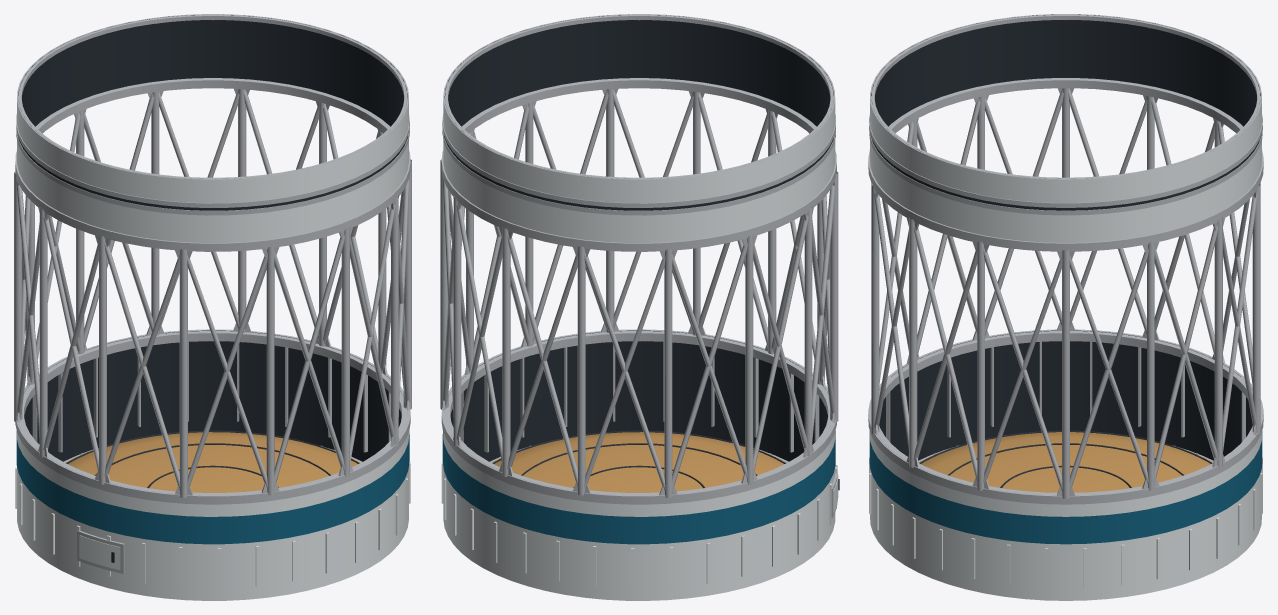
The model's file is interstage_hot_staging_d54.fbx.
3 views of the same model, side by side, from view 1: azimuth 30°, elevation 25°; view 2: azimuth 150°, elevation 25°; view 3: azimuth 270°, elevation 25° (orthographic).
Parts seen in each view (by area): view 1: interstage_hot_staging_d54_LOD0; view 2: interstage_hot_staging_d54_LOD0; view 3: interstage_hot_staging_d54_LOD0.
Boxes of the visible parts, box(x1,y1,x2,y2) form: interstage_hot_staging_d54_LOD0: box(14, 14, 411, 600); interstage_hot_staging_d54_LOD0: box(440, 14, 839, 600); interstage_hot_staging_d54_LOD0: box(868, 14, 1263, 600).
Size of what is drawn, in the model's own units: 5.49 by 6.4 by 5.44.
